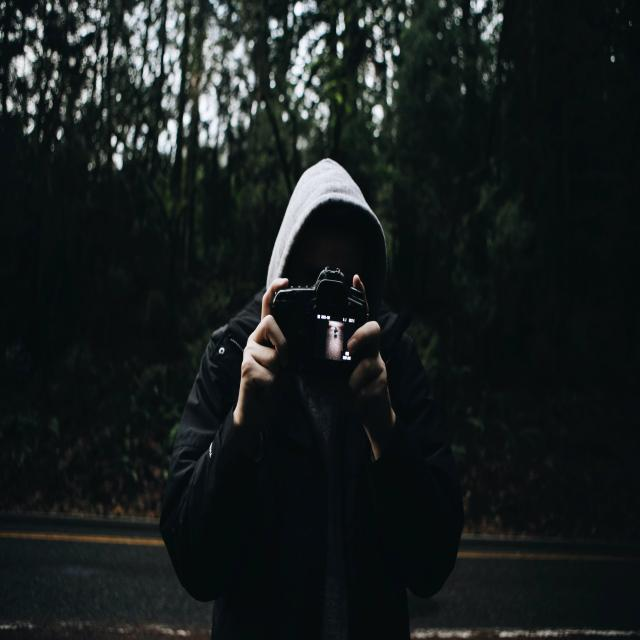adult: (159, 158, 463, 640)
